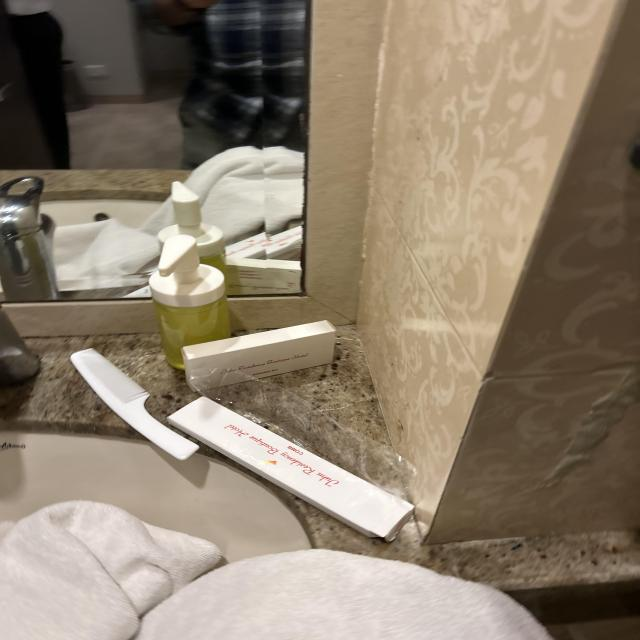mess: (0, 244, 414, 639)
